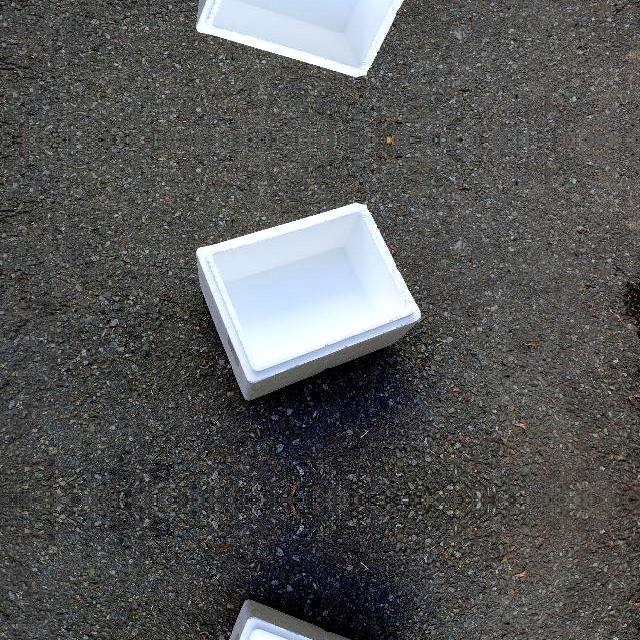Styrofoam: (198, 200, 422, 400), (196, 203, 421, 400), (197, 0, 422, 79), (196, 0, 404, 77), (197, 600, 422, 640)
